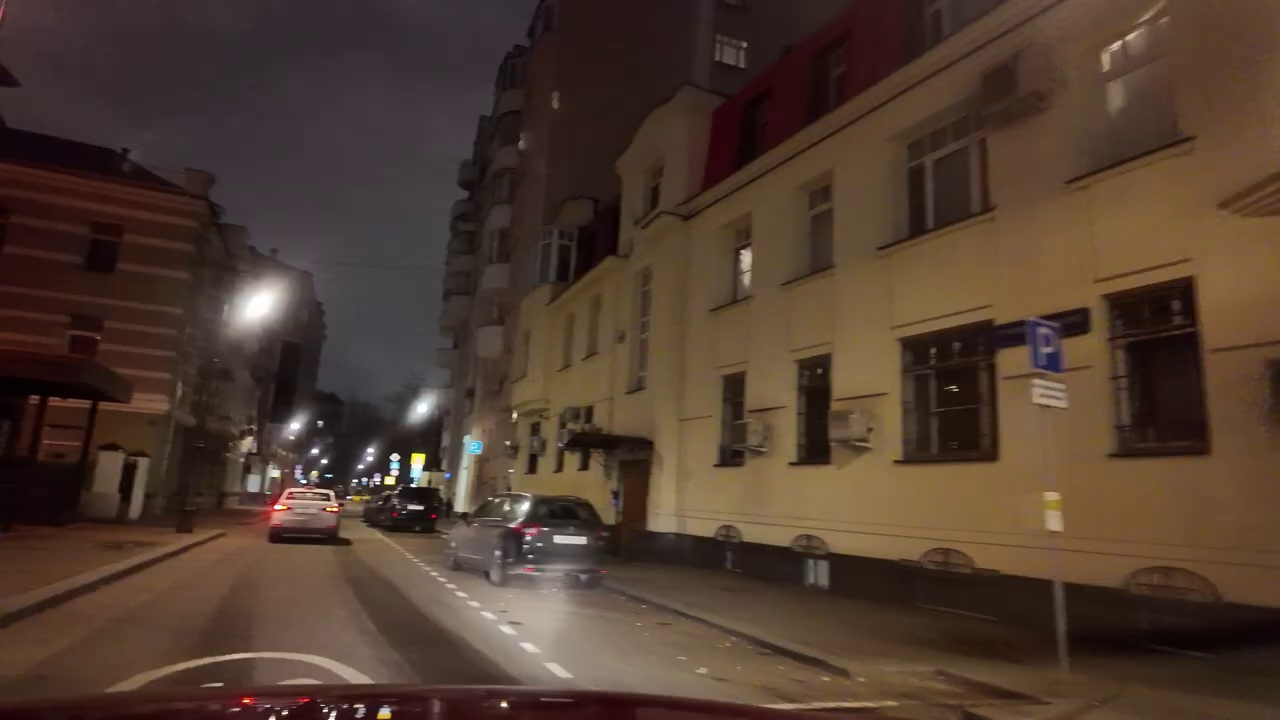acesa: (232, 281, 285, 331), (407, 390, 438, 426)
